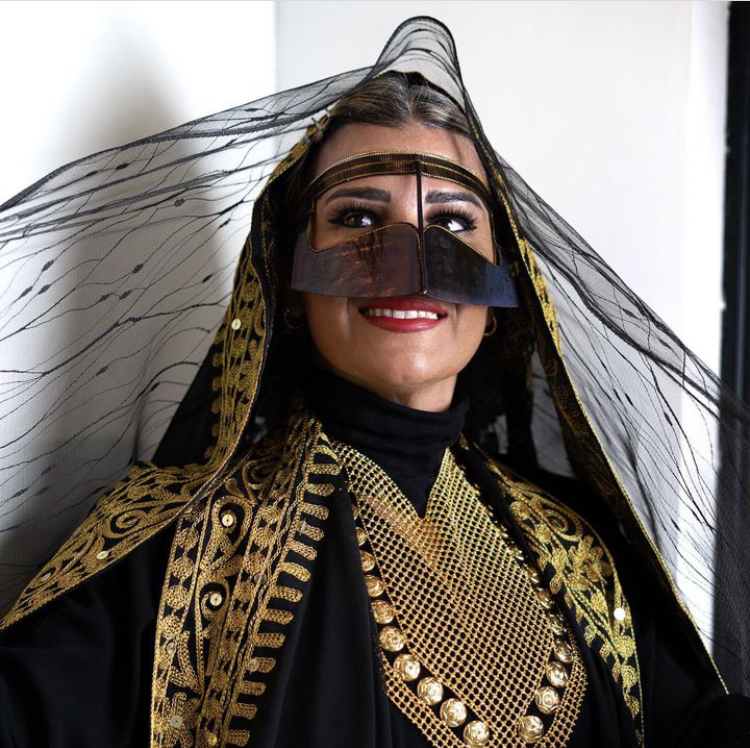Saudi_Founding_Day: (3, 10, 750, 746)
